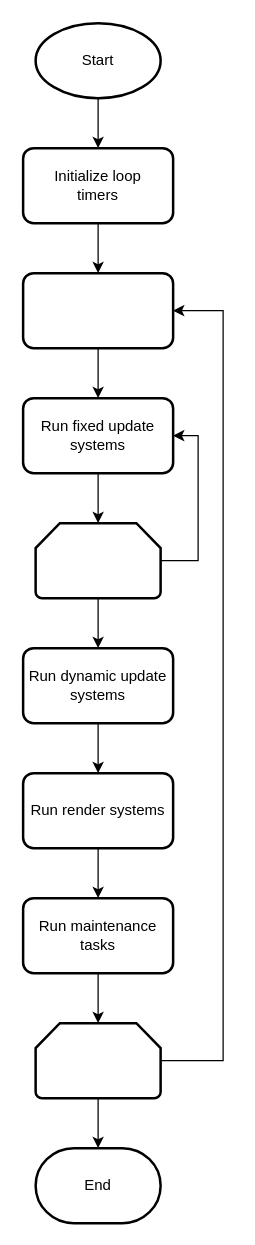
This 255x1245 diagram has some shape labels left out. The box of each missing label's shape, as (x1, y1, x2, y2) in pixels:
Until maintenance requests an abort: (34, 1021, 161, 1099)
Until the accumulator is depleted: (34, 521, 161, 599)
Update the accumulator: (21, 271, 174, 349)
